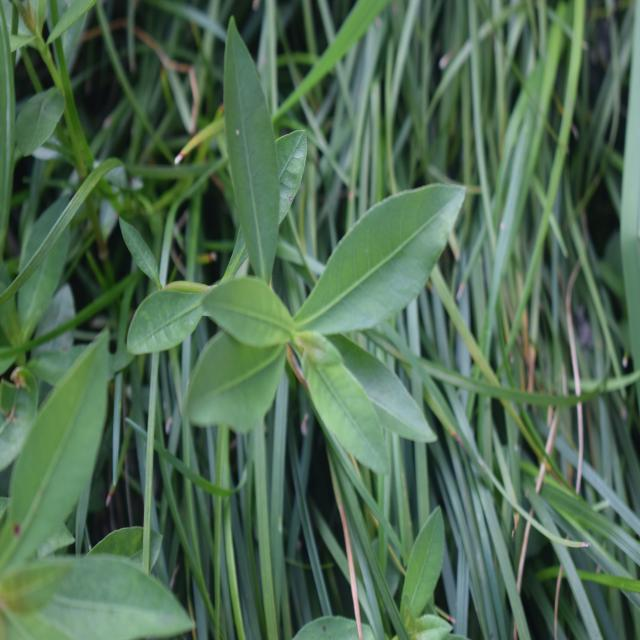Alligatorweed: (141, 58, 429, 504)
